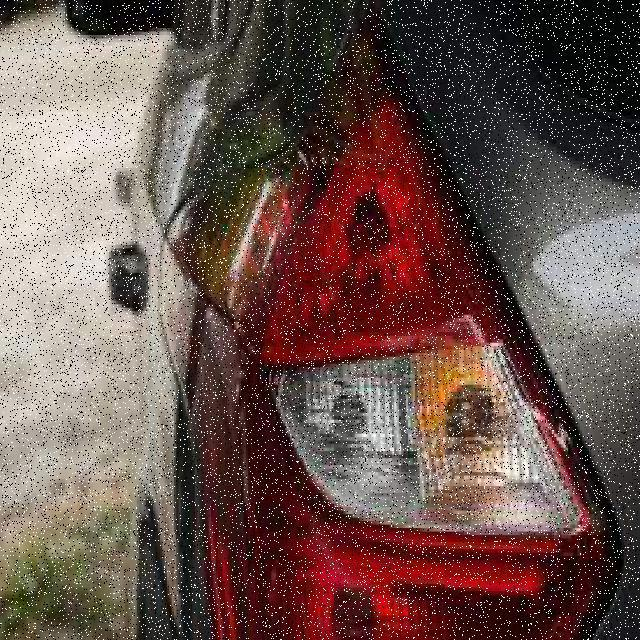Signlight-Damage: (258, 325, 600, 556)
